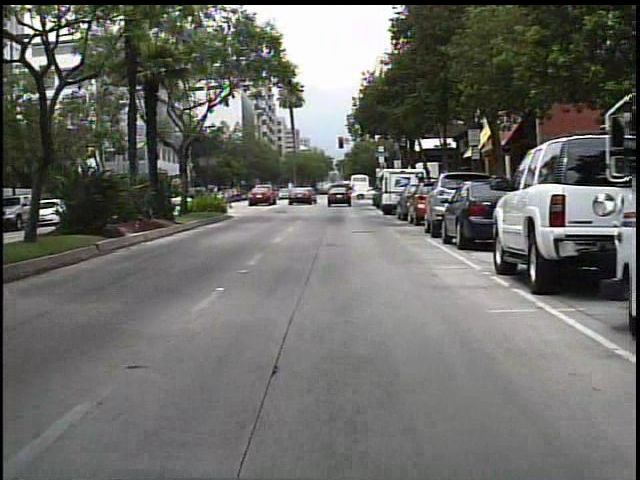person: (343, 181, 359, 202), (303, 184, 316, 205)
